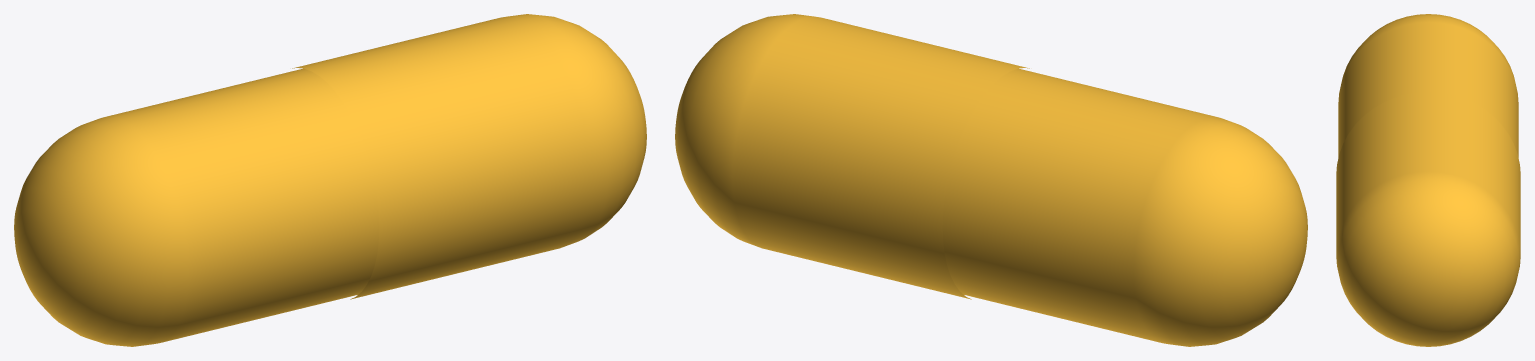
The model's file is nzt48-gold-pill-pbr.glb.
3 renders of one model, left to right at view 1: azimuth 30°, elevation 25°; view 2: azimuth 150°, elevation 25°; view 3: azimuth 270°, elevation 25°, orthographic. The views are drawn at different scales.
Visible parts, largest first — view 1: GoldPill; view 2: GoldPill; view 3: GoldPill.
Part boxes in pixels (x1=…): GoldPill: x1=14, y1=14, x2=646, y2=346; GoldPill: x1=675, y1=14, x2=1307, y2=346; GoldPill: x1=1336, y1=14, x2=1520, y2=346.
Size of the model in its own units: 0.0165 by 0.00567 by 0.00567.
